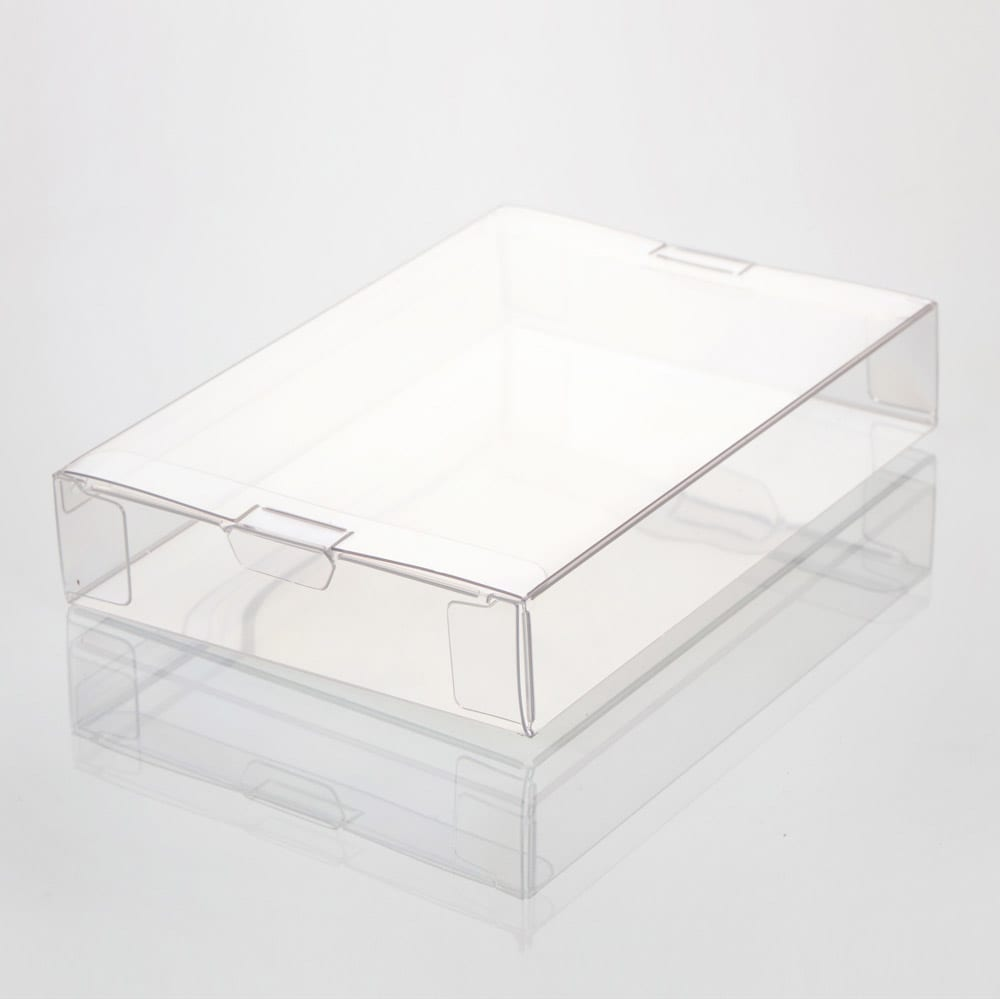PlasticBox: (49, 196, 947, 908)
